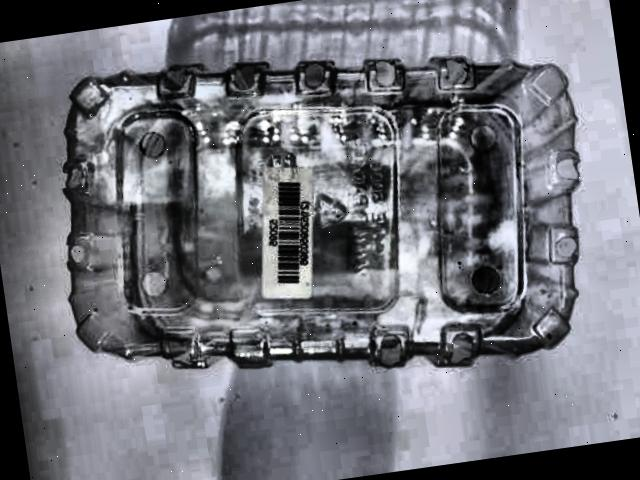Plastic: (20, 0, 628, 480)
